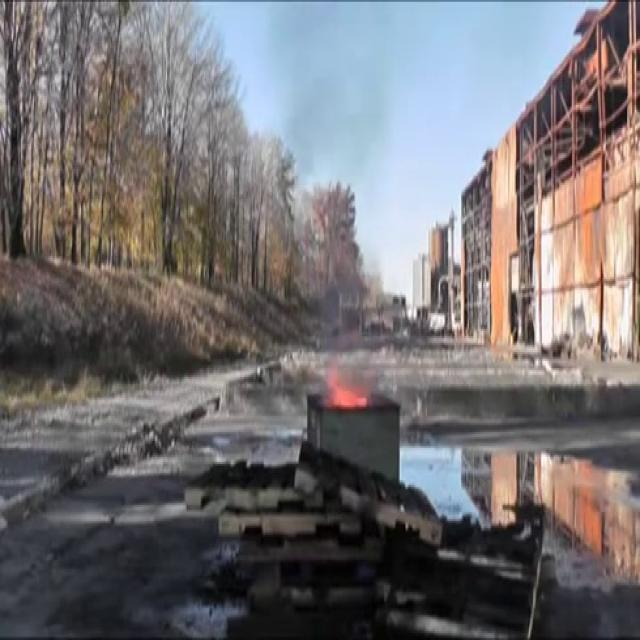Fire: (321, 358, 373, 416)
